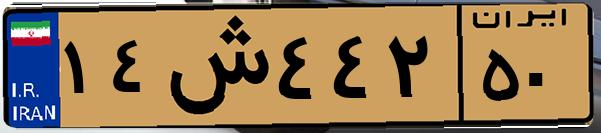0: (525, 38, 570, 115)
1: (57, 26, 110, 100)
2: (385, 28, 445, 110)
4: (270, 28, 330, 110), (330, 28, 385, 110), (110, 28, 158, 98)
5: (475, 38, 525, 113)
ش: (158, 12, 270, 120)
